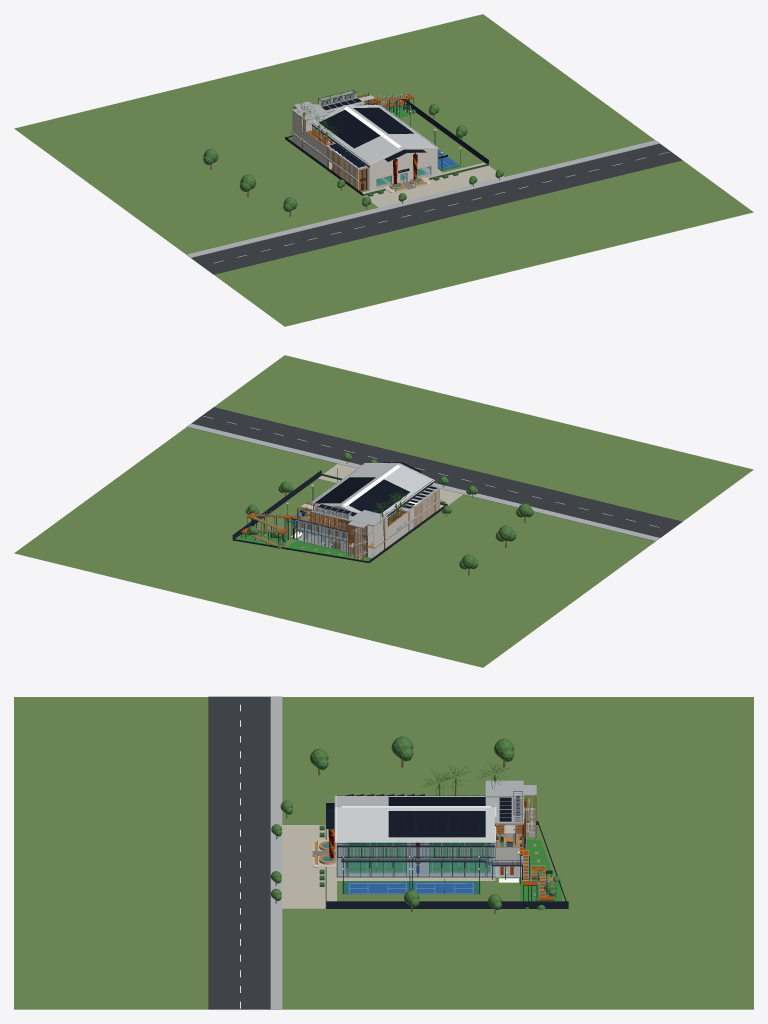
Rendered from MyPlace_Master_vR43.dae.
3 renders of one model, top to bottom at view 1: azimuth 30°, elevation 25°; view 2: azimuth 150°, elevation 25°; view 3: azimuth 270°, elevation 25°, orthographic. The views are drawn at different scales.
Parts seen in each view (by area): view 1: site__grass, site__asphalt, site__concrete, hall_roof__roofSheet, hall_roof__solar, site__paving, hall_shell__plaster, west_wing__plaster, trees__treeCrown, fences__charcoal; view 2: site__grass, site__asphalt, site__concrete, hall_roof__roofSheet, hall_roof__solar, trees__treeCrown, west_wing__plaster, fences__charcoal, outdoor__turf, site__paving; view 3: site__grass, site__asphalt, site__concrete, site__paving, hall_roof__roofSheet, hall_shell__glass, hall_roof__solar, hall_interior__court, trees__treeCrown, fences__charcoal, outdoor__pickleTex, east_catwalk__louvre (+7 smaller).
Part boxes in pixels (x1,y1,x2,y2): site__grass: (14,14,753,326); site__asphalt: (191,143,682,274); site__concrete: (187,140,659,257); hall_roof__roofSheet: (312,105,438,165); hall_roof__solar: (319,107,413,148); site__paving: (362,162,503,207); hall_shell__plaster: (312,105,437,190); west_wing__plaster: (292,111,366,190); trees__treeCrown: (203,96,503,211); fences__charcoal: (285,95,488,195); site__grass: (14,355,753,667); site__asphalt: (191,407,682,537); site__concrete: (186,423,659,541); hall_roof__roofSheet: (309,463,434,515); hall_roof__solar: (314,477,409,513); trees__treeCrown: (245,452,533,569); west_wing__plaster: (373,489,439,557); fences__charcoal: (232,470,447,562); outdoor__turf: (237,529,371,561); site__paving: (318,464,462,508); site__grass: (14,697,753,1009); site__asphalt: (208,696,270,1009); site__concrete: (270,696,499,1009); site__paving: (282,825,495,908); hall_roof__roofSheet: (334,795,495,842); hall_shell__glass: (337,847,495,876); hall_roof__solar: (388,797,485,837); hall_interior__court: (345,842,490,872); trees__treeCrown: (270,736,556,909); fences__charcoal: (326,821,568,908); outdoor__pickleTex: (347,882,475,894); east_catwalk__louvre: (338,847,494,857).
Size of the model in its own units: 160 by 160 by 16.43.
91 materials, 7 textured.
